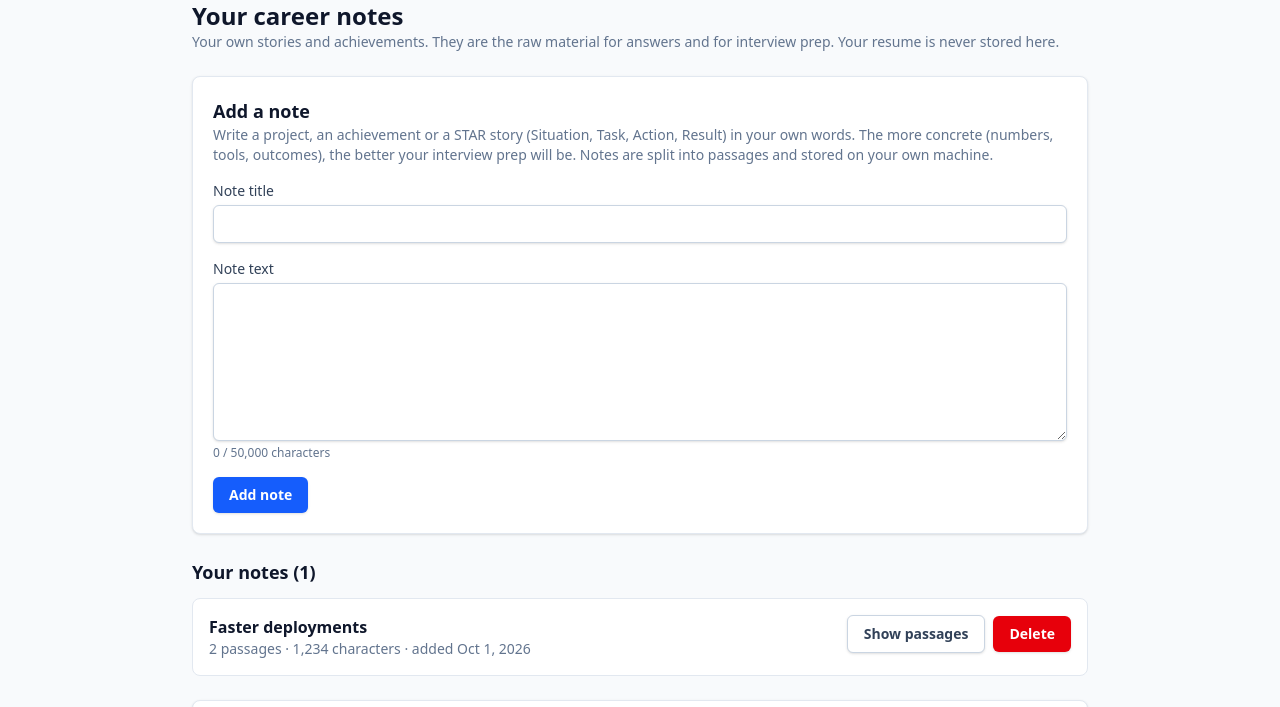
Test case: KnowledgePage › shows how a note was split into passages
This screenshot has width=1280, height=707.
Click the button with aria-label "Show passages of Faster deployments": (916, 634) x1=847 y1=615 x2=986 y2=653
(page scrolled)
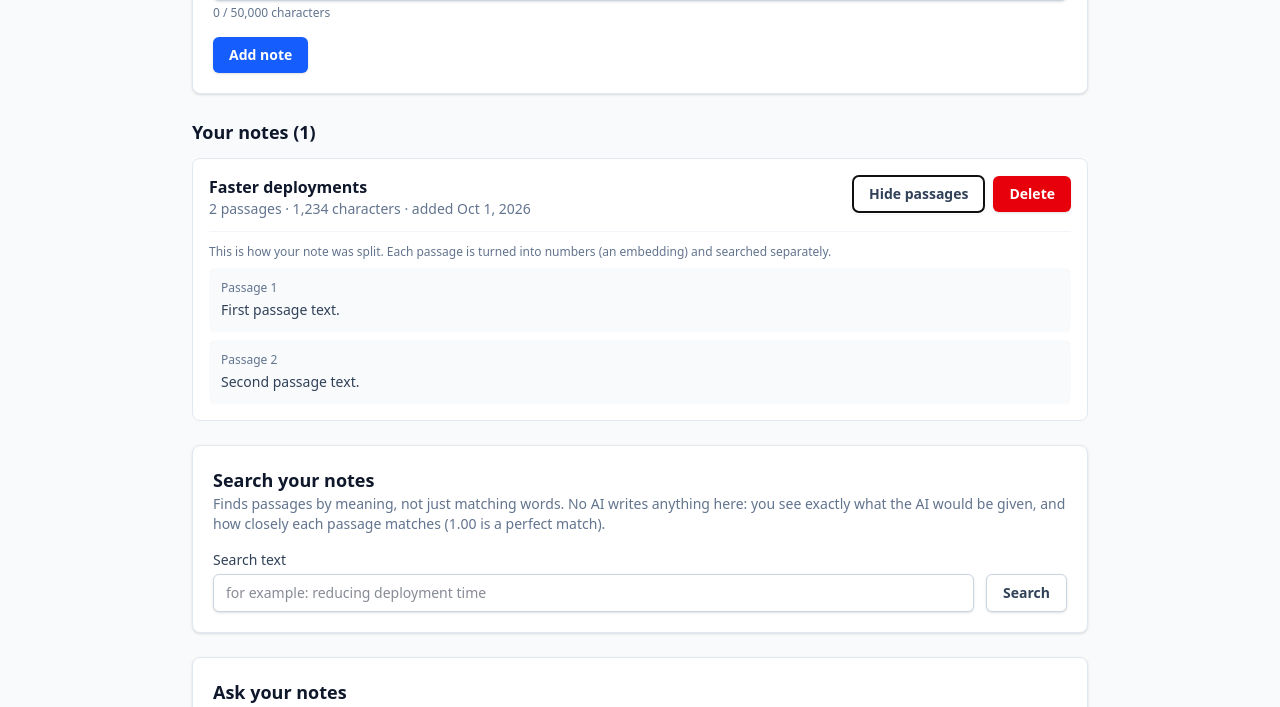
Check: the text "First passage text." is shown, box x1=221 y1=300 x2=340 y2=319
Check: the text "Passage 2" is shown, box x1=221 y1=351 x2=277 y2=368
